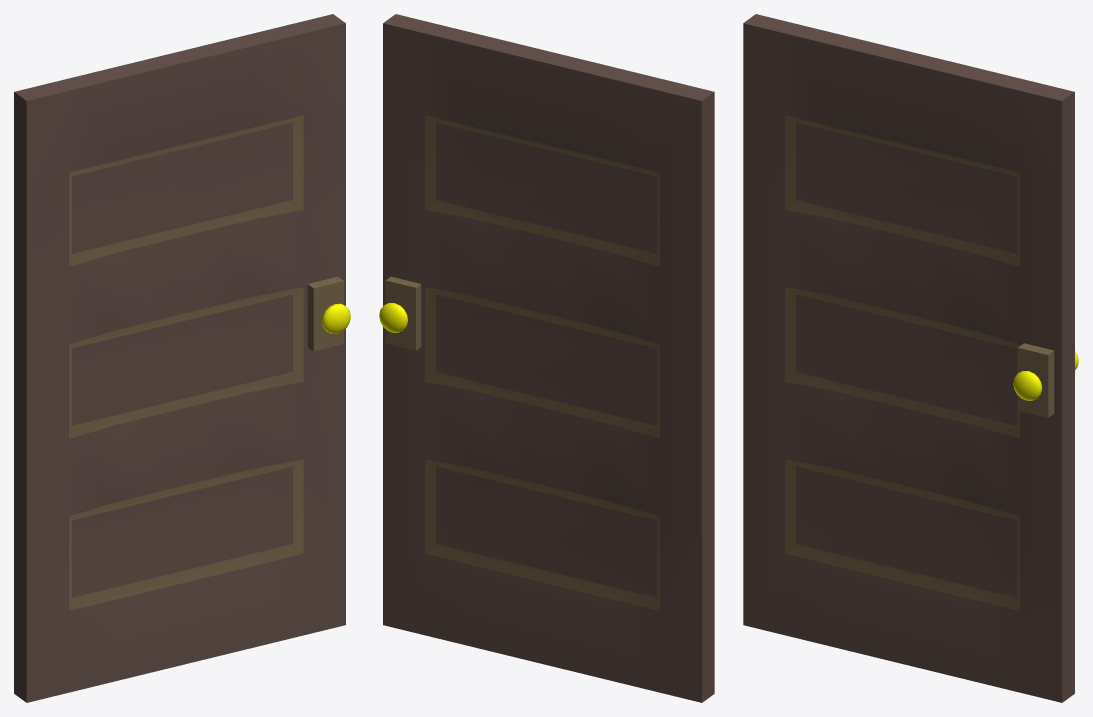
Rendered from Door.fbx.
3 views of the same model, side by side, from view 1: azimuth 30°, elevation 25°; view 2: azimuth 150°, elevation 25°; view 3: azimuth 330°, elevation 25° (orthographic).
Parts seen in each view (by area): view 1: Door, Door_Knob_Frame, Door_Knob1; view 2: Door, Door_Knob_Frame, Door_Knob; view 3: Door, Door_Knob_Frame, Door_Knob1.
Boxes of the visible parts, box(x1,y1,x2,y2) form: Door: box(14, 14, 345, 702); Door_Knob_Frame: box(307, 276, 343, 351); Door_Knob1: box(322, 303, 350, 333); Door: box(383, 14, 714, 702); Door_Knob_Frame: box(385, 276, 421, 350); Door_Knob: box(379, 303, 407, 332); Door: box(743, 14, 1074, 702); Door_Knob_Frame: box(1018, 343, 1054, 417); Door_Knob1: box(1013, 371, 1042, 400).
Size of the model in its own units: 1.34 by 2.41 by 0.3281.
